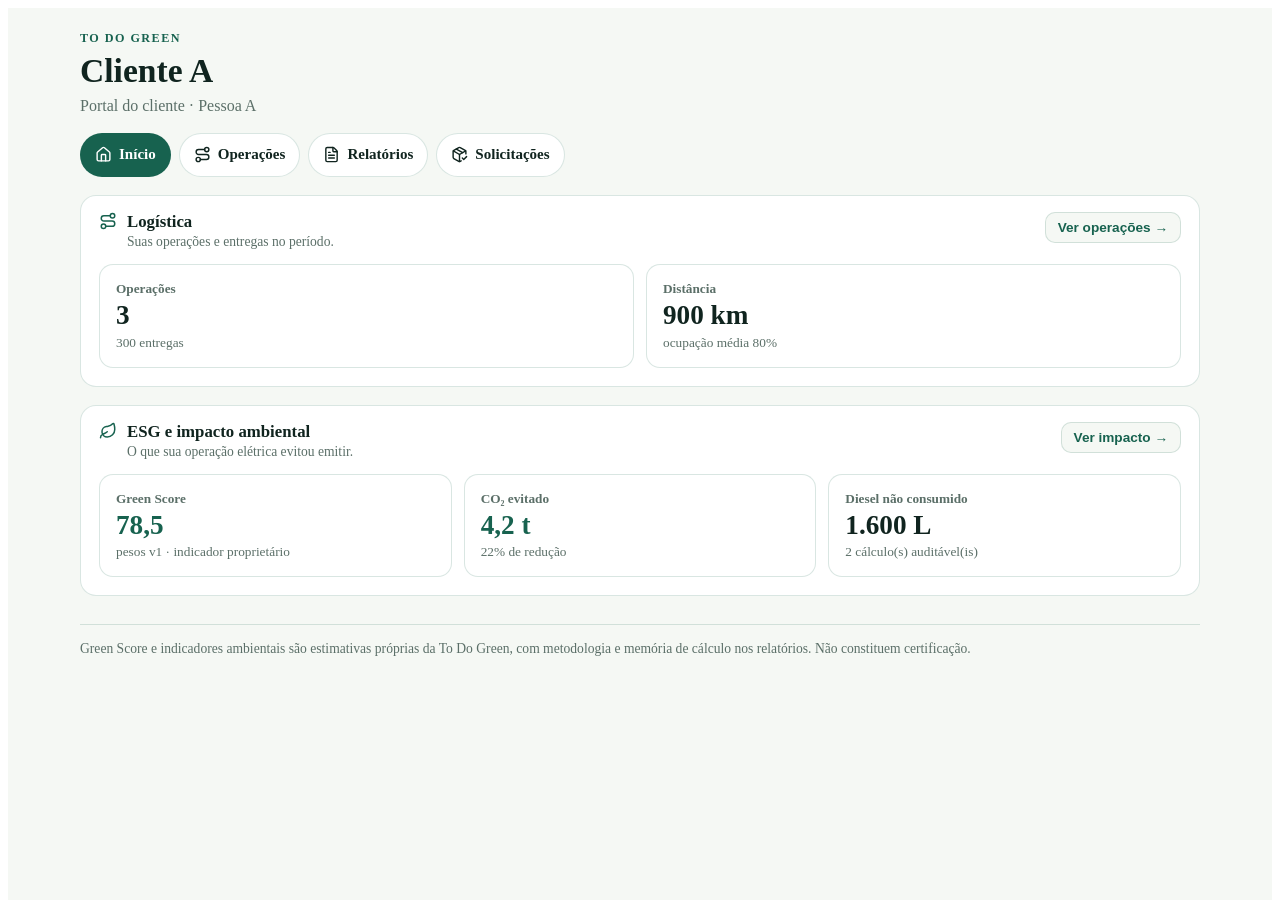
Test: Solicitações do cliente › os campos obrigatórios vêm do tipo escolhido, não da tela
Expected: the heading "Cliente A" is shown, [80, 52, 213, 89]
Click the button "Solicitações" at (500, 155), box [436, 133, 565, 177]
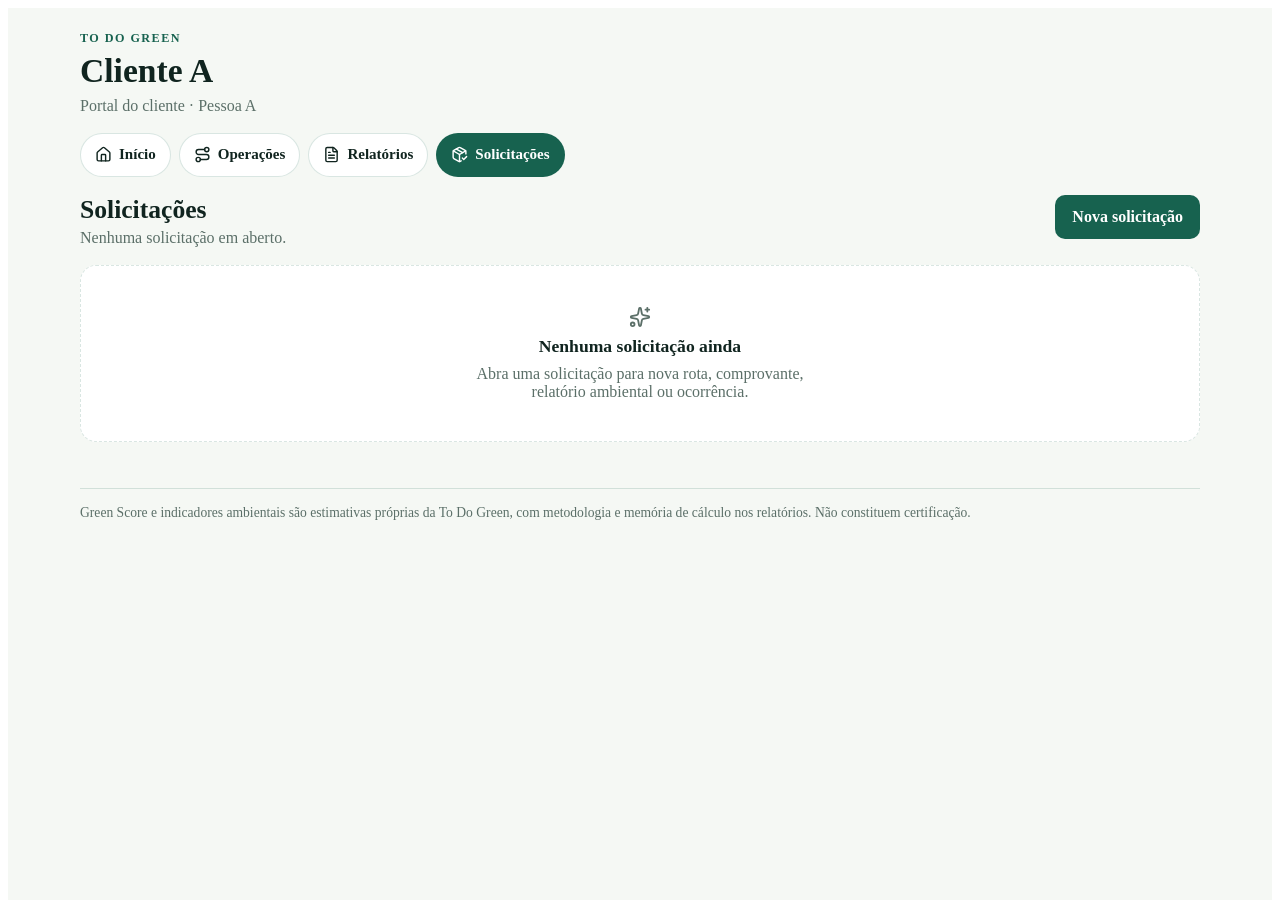
Click the button "Nova solicitação" at (1128, 217), box [1055, 195, 1200, 239]
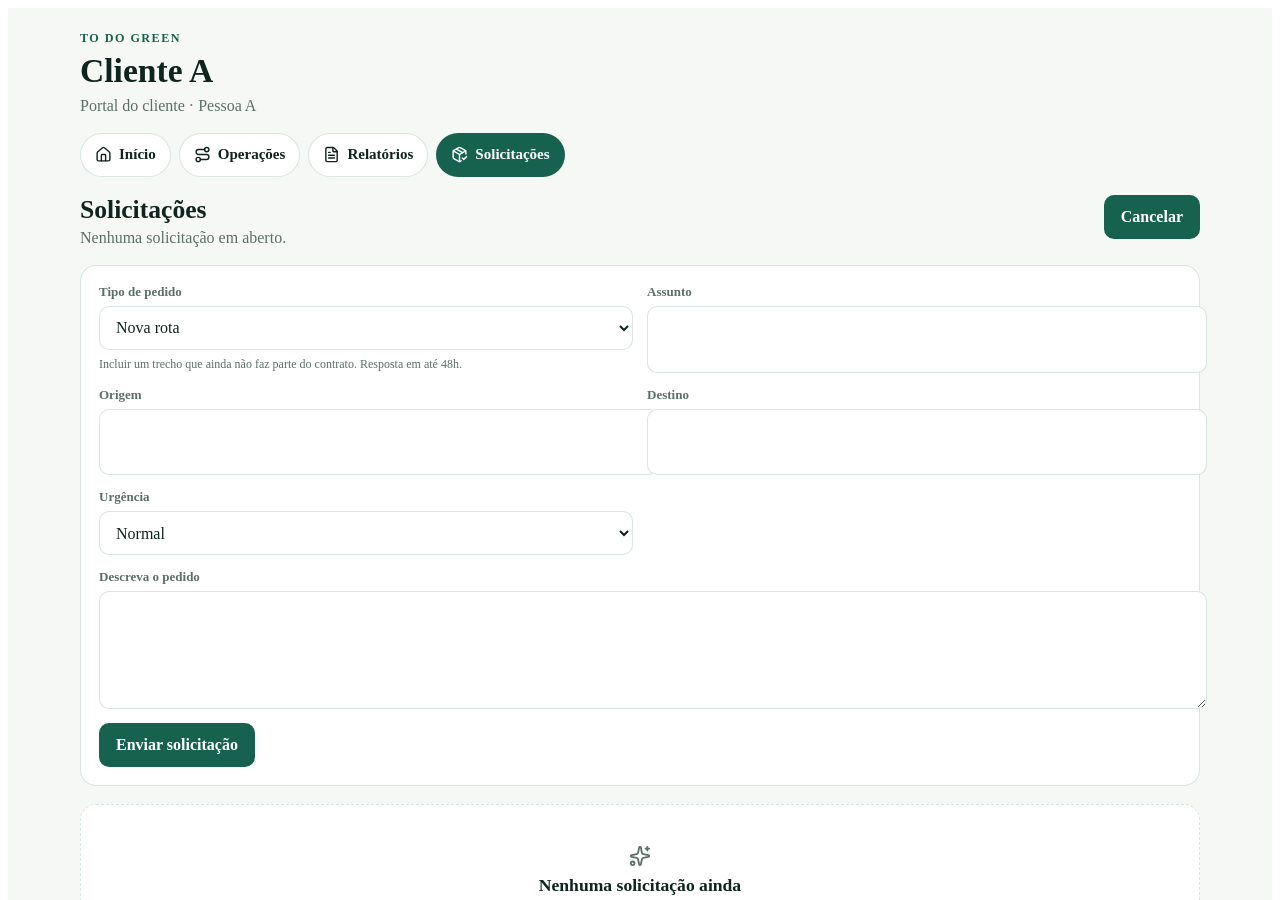
Now the text "Origem" is shown, box [99, 387, 142, 402]
Now the text "Destino" is shown, box [647, 387, 689, 402]
Now the text "Resposta em até 48h" is shown, box [99, 357, 462, 371]
Select "Ocorrência na entrega" in the dropdown labelled "Tipo de pedido" at (366, 328), box [99, 306, 633, 350]
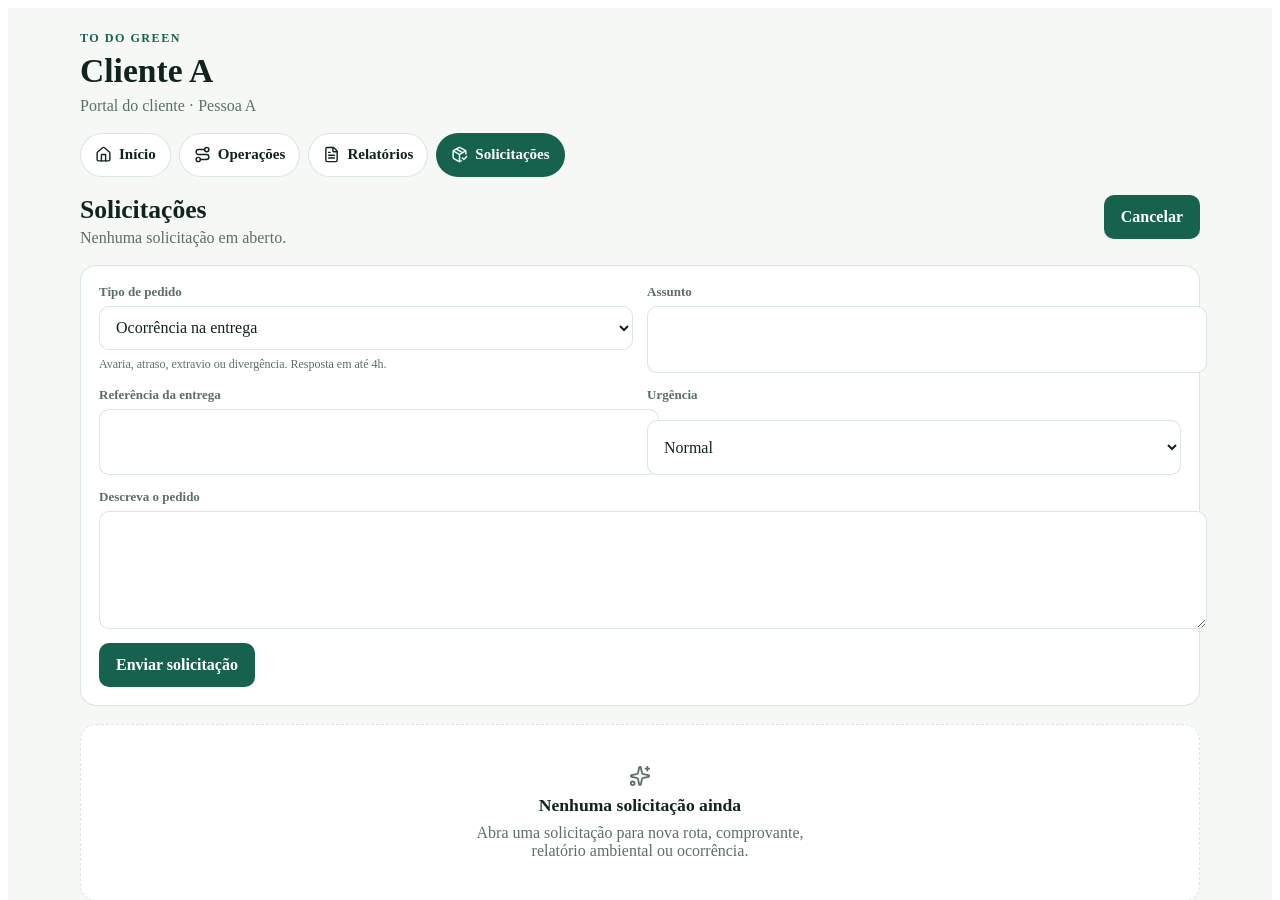
Now the text "Referência da entrega" is shown, box [99, 387, 221, 402]
Now the text "Origem" is gone
Now the text "Avaria, atraso, extravio ou divergência. Resposta em até 4h." is shown, box [99, 357, 386, 371]
